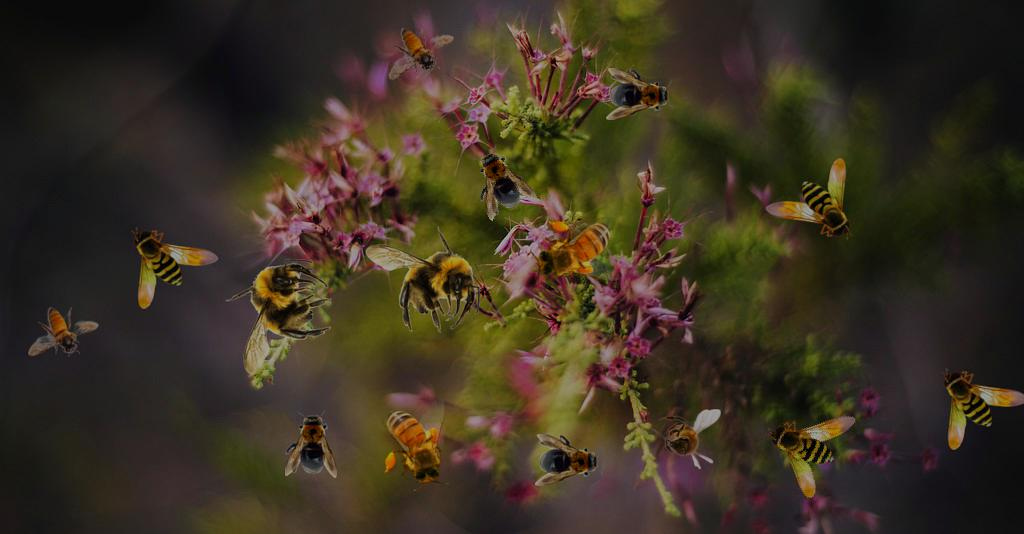Bee: (763, 390, 879, 504), (225, 259, 332, 374), (365, 226, 480, 333), (765, 158, 853, 240), (131, 227, 219, 309), (941, 368, 1024, 450), (460, 138, 538, 224), (530, 217, 623, 285), (381, 398, 449, 491), (380, 19, 460, 82), (651, 409, 721, 470), (28, 307, 99, 357), (285, 410, 337, 478), (535, 434, 603, 486), (606, 68, 674, 120)
